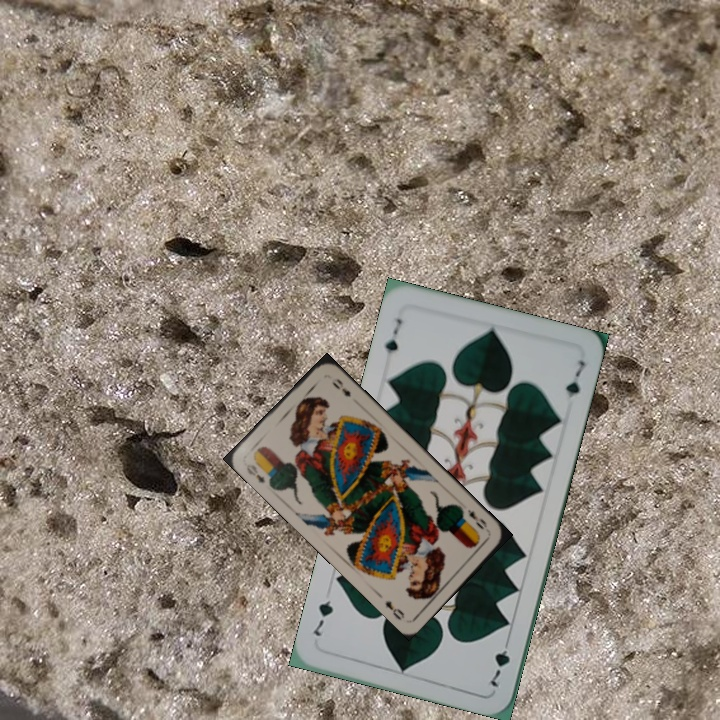EO: (463, 505, 490, 532), (242, 460, 268, 486)
G7: (486, 633, 513, 690), (380, 314, 405, 356)
